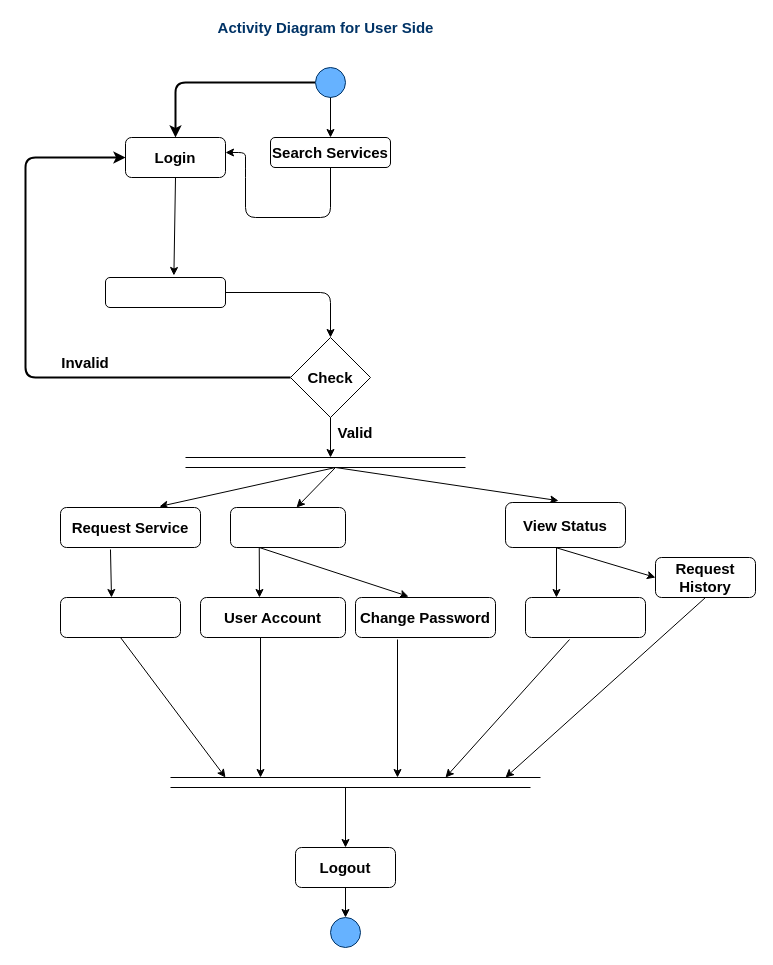
This 773x965 diagram has some shape labels left out. Here are the shapes that lost their labels. From the top down, the centre of each, then its label:
At (x=165, y=292): "Authentication".
At (x=288, y=527): "Edit Profile".
At (x=120, y=617): "Cancel Request".
At (x=585, y=617): "Request Status".
